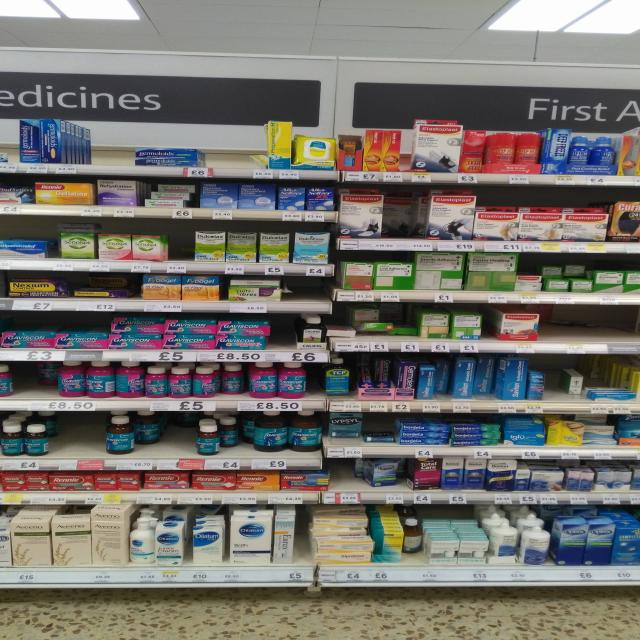100- O.O.S: (542, 314, 638, 354), (62, 413, 102, 469), (288, 276, 323, 313), (208, 148, 251, 178), (94, 144, 134, 174), (170, 224, 192, 273), (270, 315, 293, 361), (168, 426, 192, 469), (330, 460, 354, 503), (13, 364, 35, 410), (296, 514, 308, 580), (545, 359, 559, 412), (309, 363, 324, 410)
